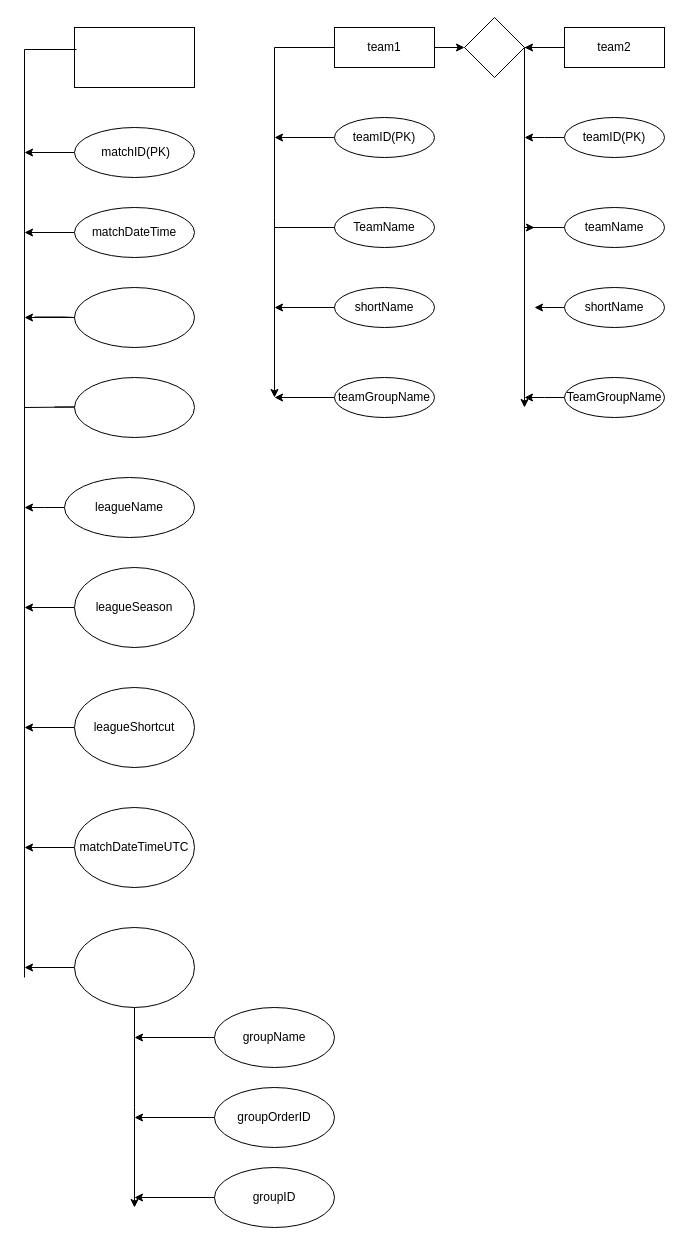
Some shapes in this 682 by 1245 pixel diagram are drawn without their labels. Each missing label, with the centre of its shape:
group: pixel 134 967
leagueID: pixel 134 407
Match: pixel 134 57
spielt gegen: pixel 494 47
timeZoneID: pixel 134 317
